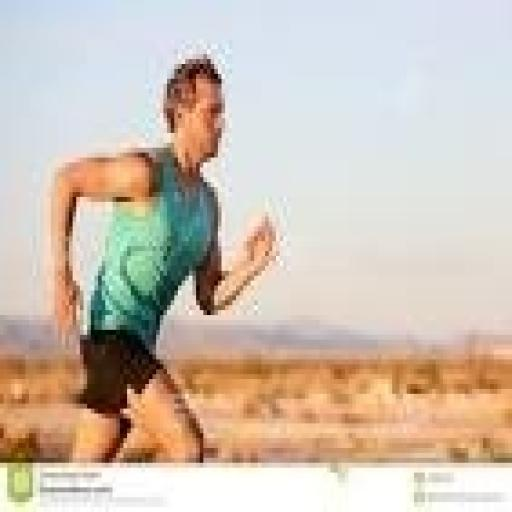running: (40, 49, 283, 463)
